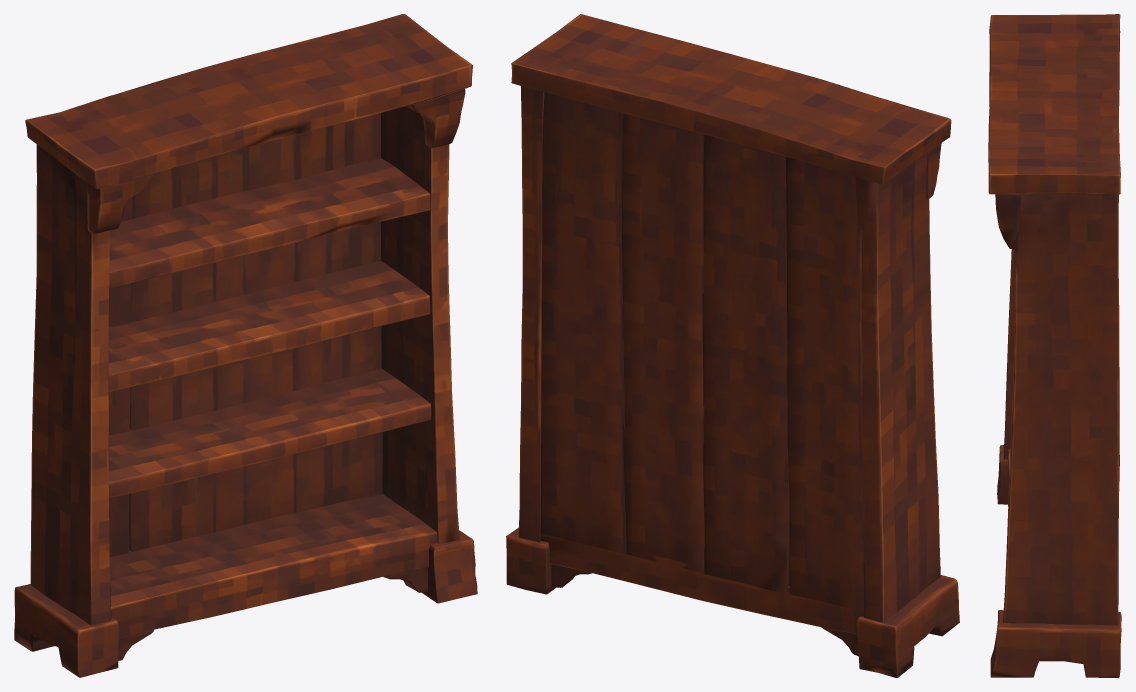
Rendered from shelves.glb.
3 views of the same model, side by side, from view 1: azimuth 30°, elevation 25°; view 2: azimuth 150°, elevation 25°; view 3: azimuth 270°, elevation 25° (orthographic). The views are drawn at different scales.
Parts seen in each view (by area): view 1: geometry_0; view 2: geometry_0; view 3: geometry_0.
Boxes of the visible parts, x1,y1,x2,y2 form: geometry_0: (14, 14, 477, 677); geometry_0: (506, 14, 959, 677); geometry_0: (988, 14, 1121, 677).
Bounding box in the file's own units: 0.7821 × 1 × 0.2417.
1 material, 1 textured.
